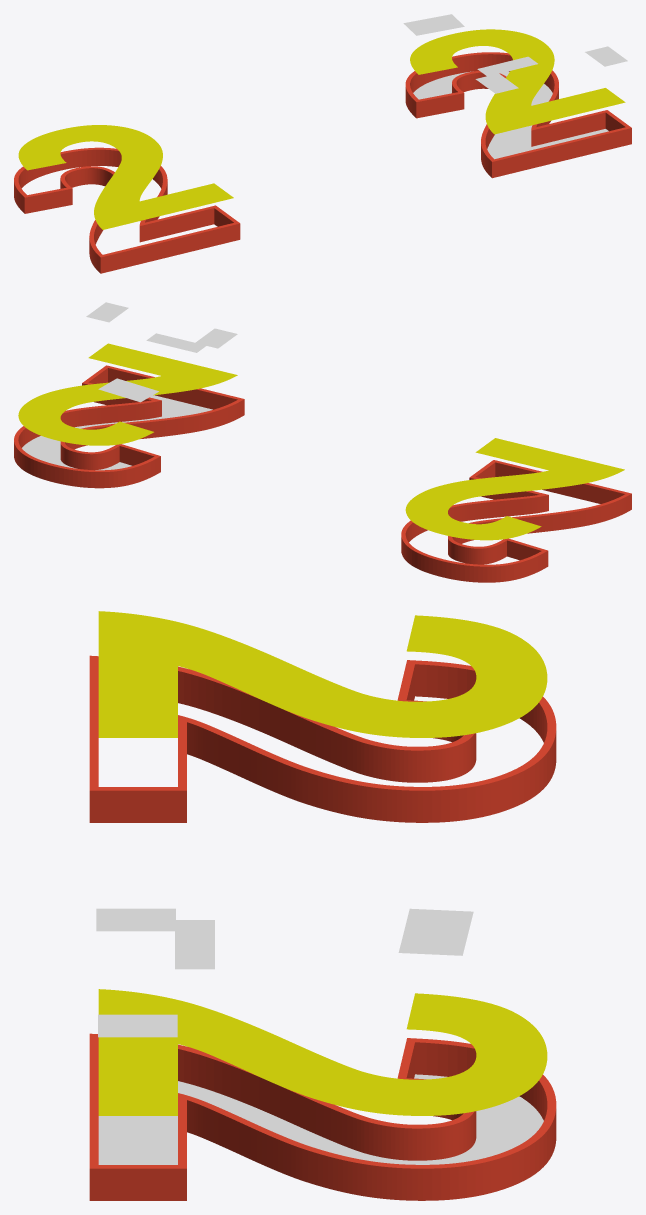
3 views of the same model, one above another, from view 1: azimuth 30°, elevation 25°; view 2: azimuth 150°, elevation 25°; view 3: azimuth 270°, elevation 25° (orthographic). The views are drawn at different scales.
Parts seen in each view (by area): view 1: 2_show_border, 2_border, 2_show_fill, 2_paint_1, 2_paint_2, 2_origin, trigger_2_1_start, trigger_2_1_end, trigger_2_2_start, trigger_2_2_end; view 2: 2_show_border, 2_border, 2_show_fill, 2_paint_1, 2_paint_2, 2_origin, trigger_2_1_start, trigger_2_1_end, trigger_2_2_end, trigger_2_2_start; view 3: 2_border, 2_show_border, 2_show_fill, 2_paint_1, 2_origin, 2_paint_2, trigger_2_1_start, trigger_2_1_end, trigger_2_2_end, trigger_2_2_start.
Boxes of the visible parts, box(x1,y1,x2,y2) form: 2_show_border: box(14, 147, 240, 273); 2_border: box(405, 52, 631, 178); 2_show_fill: box(18, 125, 233, 229); 2_paint_1: box(410, 29, 554, 116); 2_paint_2: box(485, 88, 625, 134); 2_origin: box(413, 71, 608, 159); trigger_2_1_start: box(403, 14, 464, 35); trigger_2_1_end: box(477, 56, 537, 76); trigger_2_2_start: box(475, 73, 518, 93); trigger_2_2_end: box(585, 46, 627, 66); 2_show_border: box(401, 460, 631, 582); 2_border: box(14, 365, 244, 488); 2_show_fill: box(405, 438, 624, 540); 2_paint_1: box(18, 376, 206, 445); 2_paint_2: box(88, 343, 237, 386); 2_origin: box(22, 395, 212, 470); trigger_2_1_start: box(98, 378, 158, 402); trigger_2_1_end: box(146, 333, 206, 352); trigger_2_2_end: box(86, 302, 128, 322); trigger_2_2_start: box(195, 328, 237, 348); 2_border: box(89, 1033, 556, 1200); 2_show_border: box(89, 655, 556, 822); 2_show_fill: box(98, 611, 547, 737); 2_paint_1: box(177, 993, 547, 1115); 2_origin: box(98, 1074, 543, 1164); 2_paint_2: box(98, 989, 177, 1115); trigger_2_1_start: box(398, 908, 473, 955); trigger_2_1_end: box(175, 920, 214, 969); trigger_2_2_end: box(98, 1014, 177, 1037); trigger_2_2_start: box(96, 908, 175, 931).
Bounding box in the file's own units: 1.36 × 0.2 × 0.5219.
